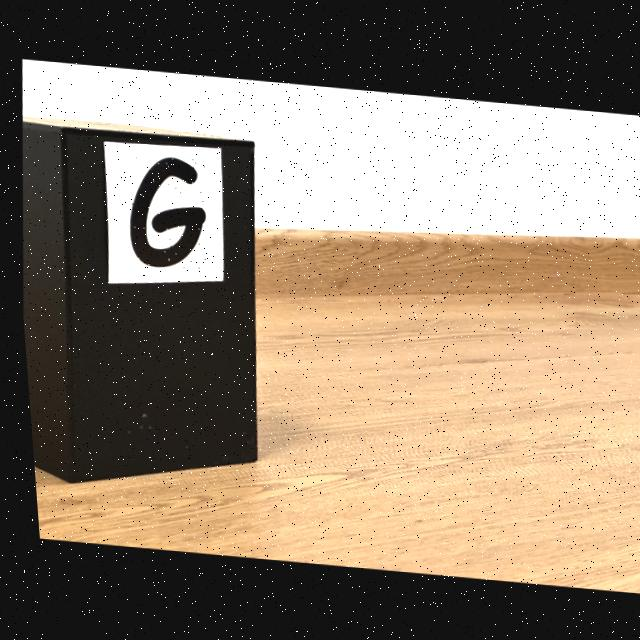G: (127, 156, 202, 266)
